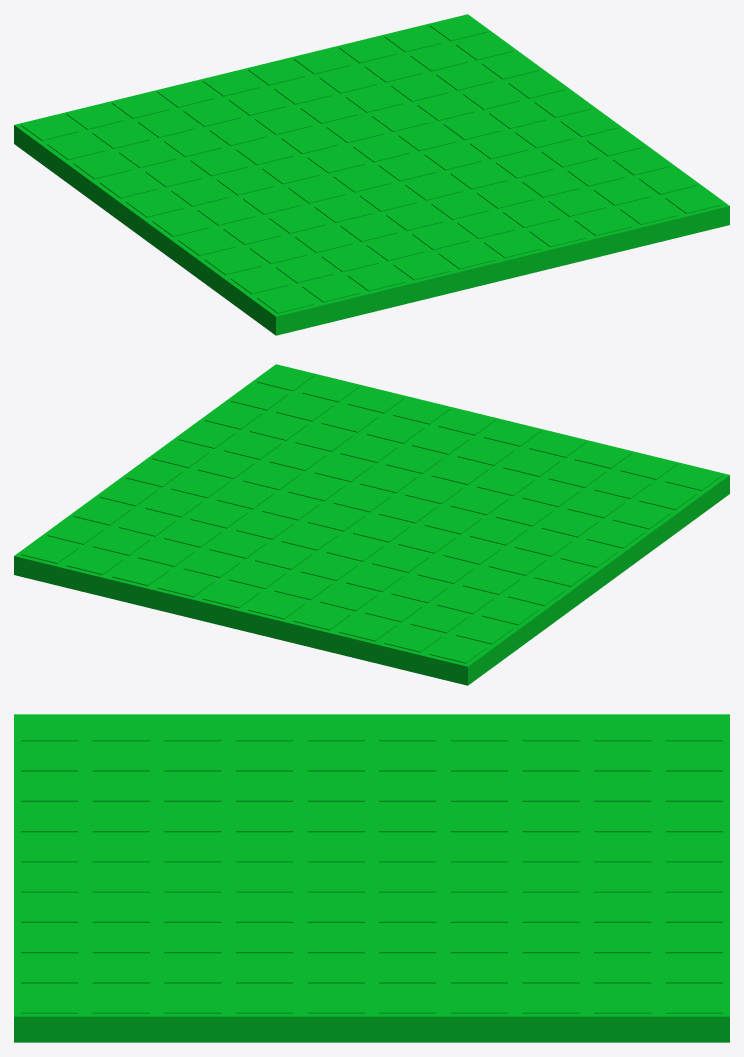
The model's file is plate.fbx.
3 renders of one model, top to bottom at view 1: azimuth 30°, elevation 25°; view 2: azimuth 150°, elevation 25°; view 3: azimuth 270°, elevation 25°, orthographic. The views are drawn at different scales.
Visible parts, largest first — view 1: studs, base; view 2: studs, base; view 3: studs, base.
Boxes of the visible parts, box(x1,y1,x2,y2) form: studs: box(21, 16, 722, 313); base: box(14, 14, 729, 335); studs: box(21, 366, 722, 663); base: box(14, 364, 729, 685); studs: box(21, 716, 722, 1013); base: box(14, 714, 729, 1042).
Bounding box in the file's own units: 500 × 20.96 × 500.
